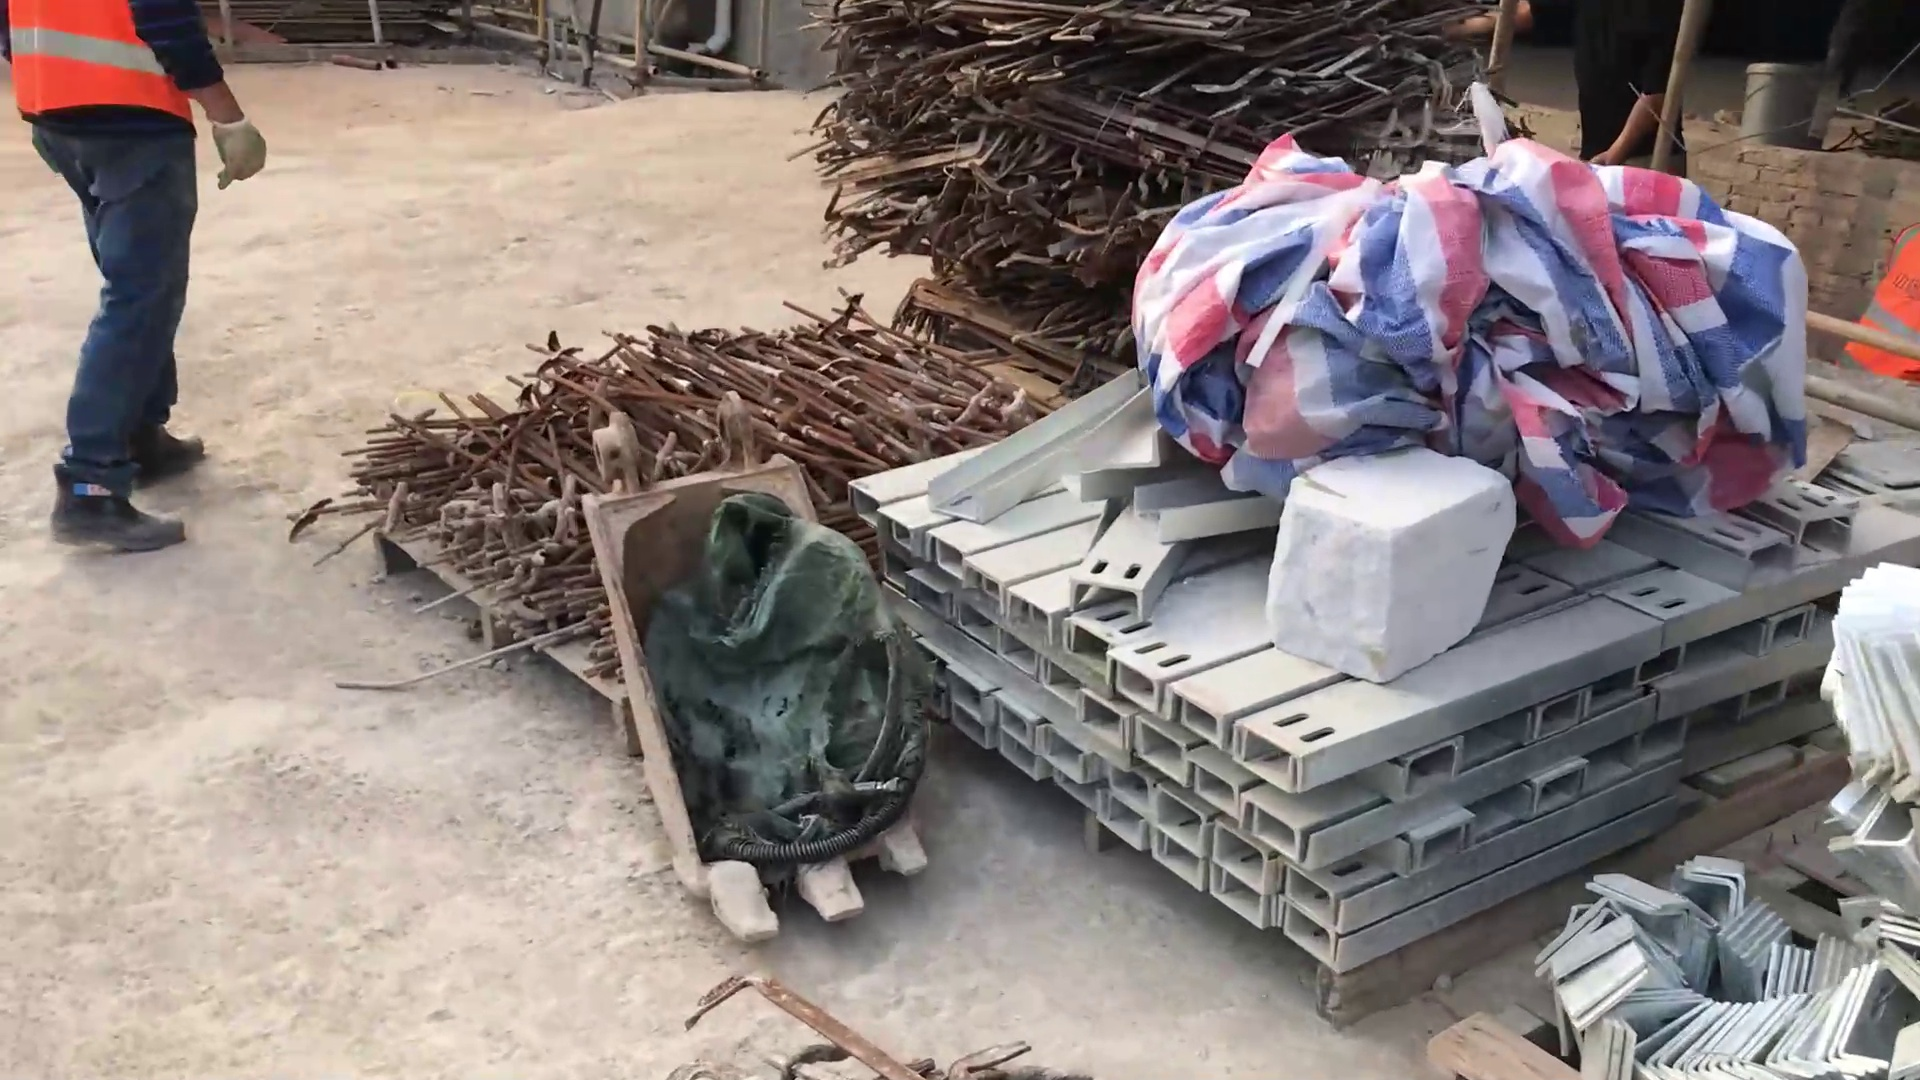person: (1, 5, 284, 567)
vest: (1, 1, 222, 145)
